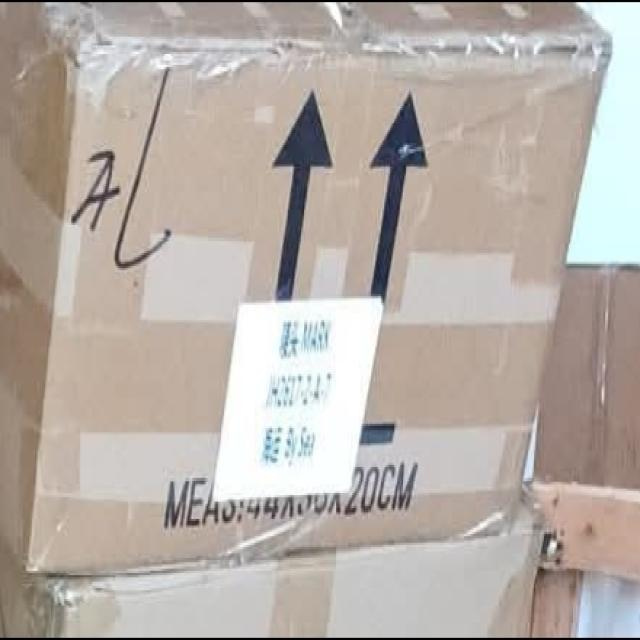carton_box: (0, 0, 614, 591)
export_mark_label: (239, 299, 369, 510)
package_damage: (55, 1, 622, 90)
this_side_up_label: (248, 59, 435, 396)
